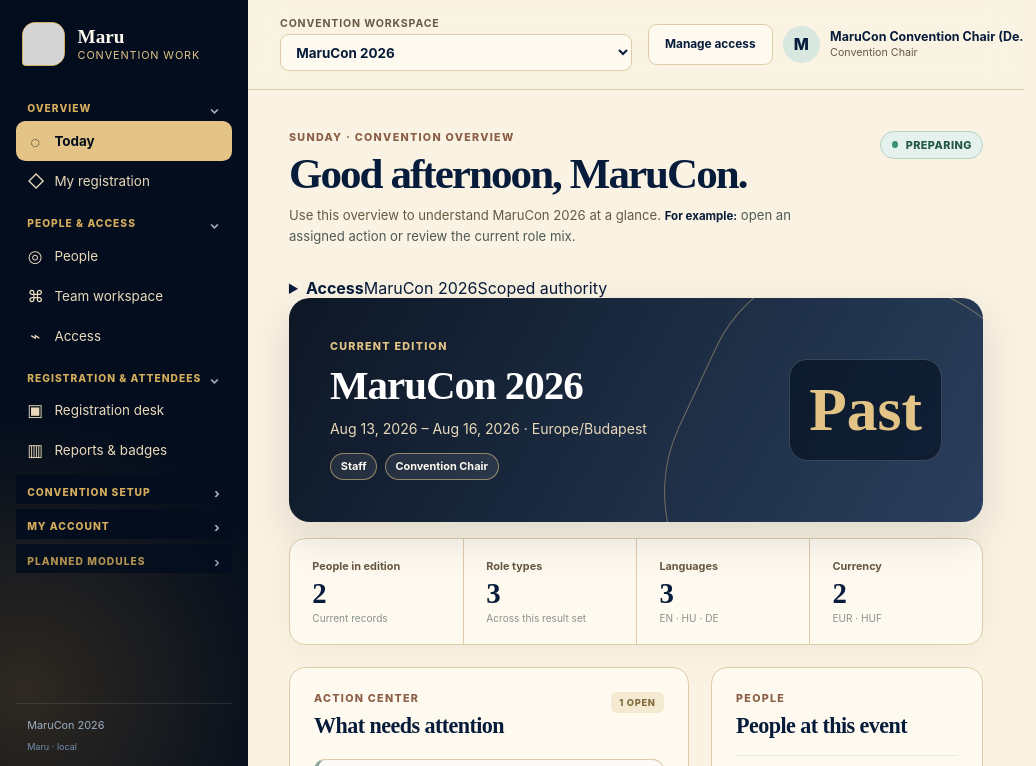
Management Console › shows country metrics and exports the filtered badge dataset
Expected: the heading "MaruCon 2026" is shown, [330, 362, 583, 408]
Step 1. Click the button "▥ Reports & badges" → {"x": 124, "y": 450}, box [16, 430, 232, 470]
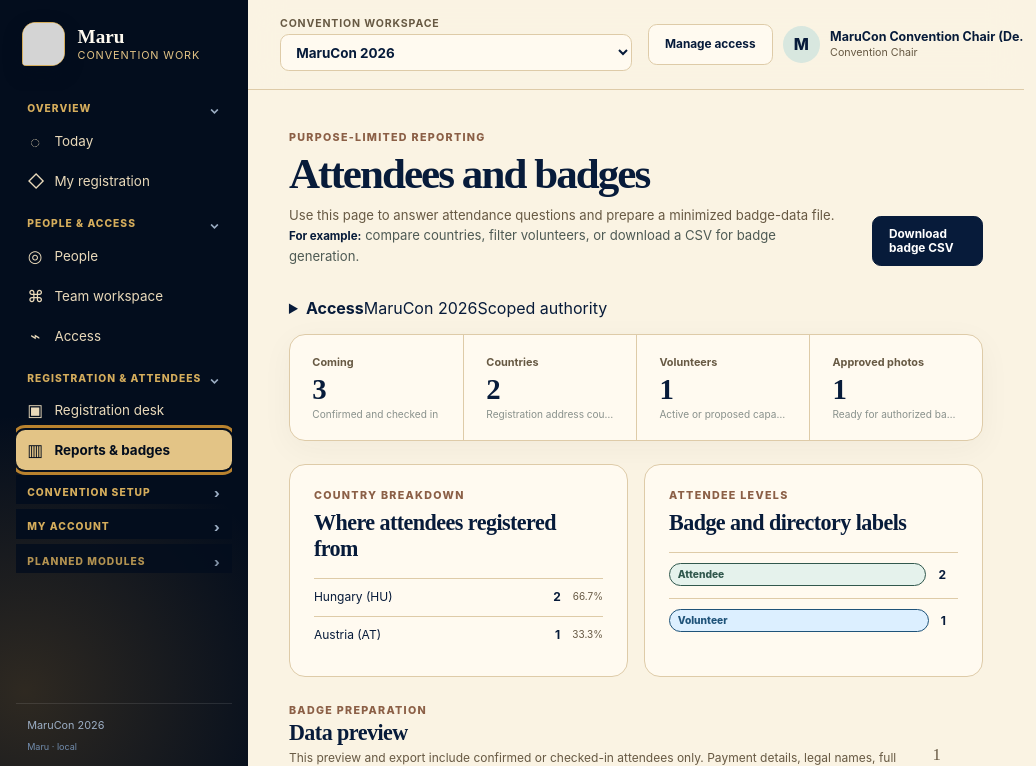
Expected: the heading "Attendees and badges" is shown, [289, 150, 649, 196]
Expected: the text "(HU)" is shown, [314, 589, 393, 604]
Expected: the text "Volunteer" is shown, [669, 609, 929, 632]
